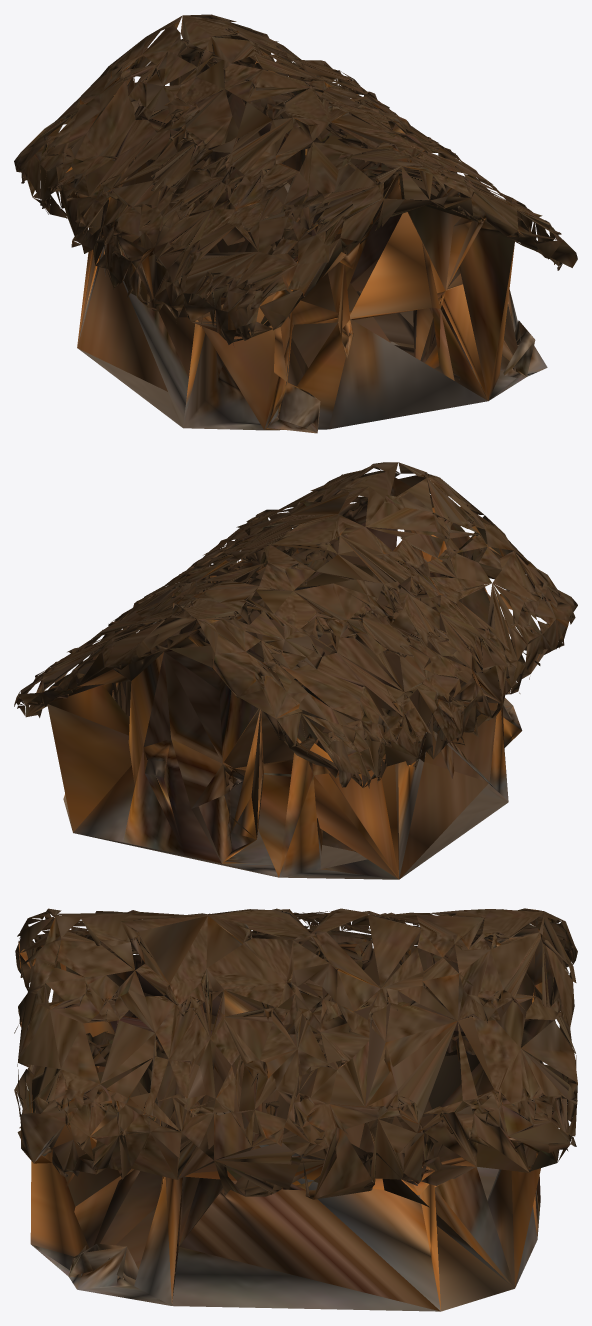
The model's file is grosse_huette.glb.
3 views of the same model, one above another, from view 1: azimuth 30°, elevation 25°; view 2: azimuth 150°, elevation 25°; view 3: azimuth 270°, elevation 25° (orthographic). The views are drawn at different scales.
Size of the model in its own units: 1.61 by 1.13 by 1.89.
1 material, 1 textured.
